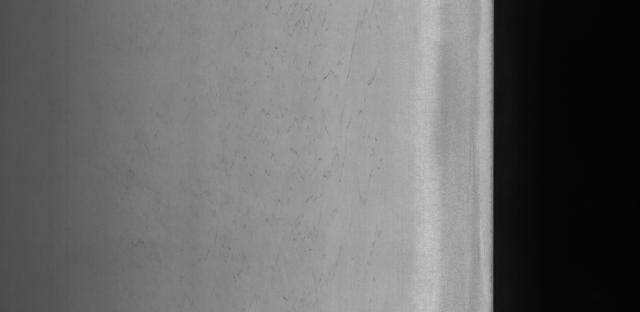silk_spot: (278, 24, 402, 217)
